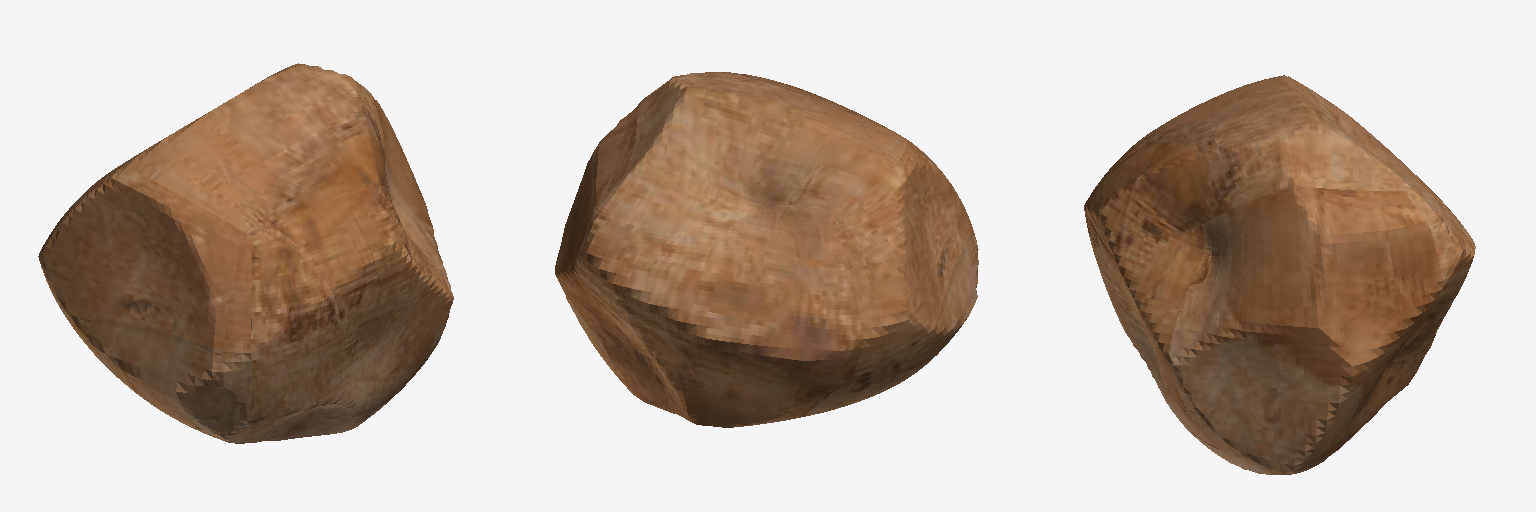
3 views of the same model, side by side, from view 1: azimuth 30°, elevation 25°; view 2: azimuth 150°, elevation 25°; view 3: azimuth 270°, elevation 25° (orthographic).
Visible parts, largest first — view 1: Cube; view 2: Cube; view 3: Cube.
Boxes of the visible parts, <box> form: Cube: <box>38,63,453,443</box>; Cube: <box>555,72,978,427</box>; Cube: <box>1084,75,1475,474</box>.
Bounding box in the file's own units: 1.26 × 1.11 × 1.2.
1 materials, 1 textured.